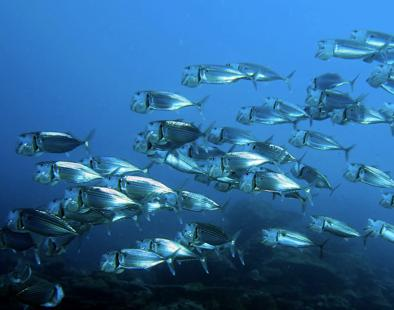Scombridae -Tunas-: (60, 183, 156, 222), (4, 206, 88, 247), (126, 86, 214, 122), (237, 171, 323, 206), (281, 125, 357, 163), (205, 145, 291, 178), (140, 118, 214, 155), (180, 62, 261, 95), (13, 127, 96, 159), (306, 213, 374, 251), (95, 246, 181, 276), (31, 158, 119, 187), (260, 225, 332, 260), (180, 219, 244, 258), (234, 103, 306, 137), (311, 36, 392, 66), (339, 159, 394, 189)
